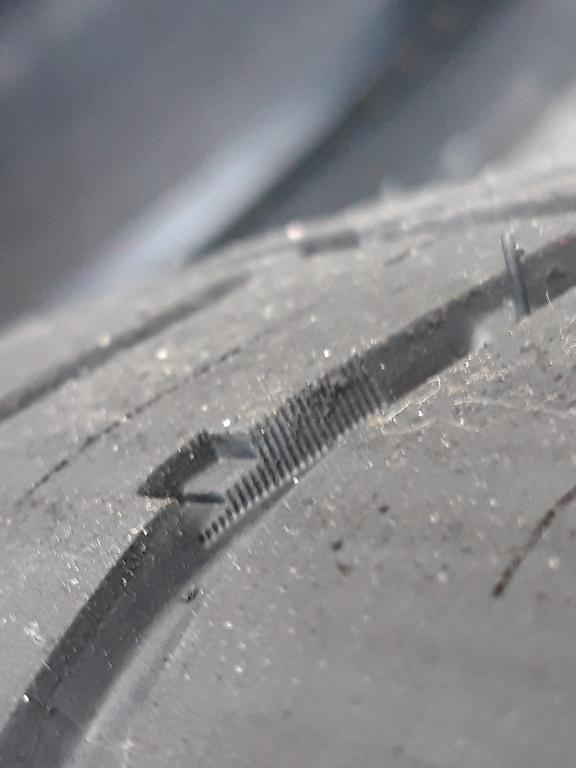temoin:50: (129, 393, 306, 565)
